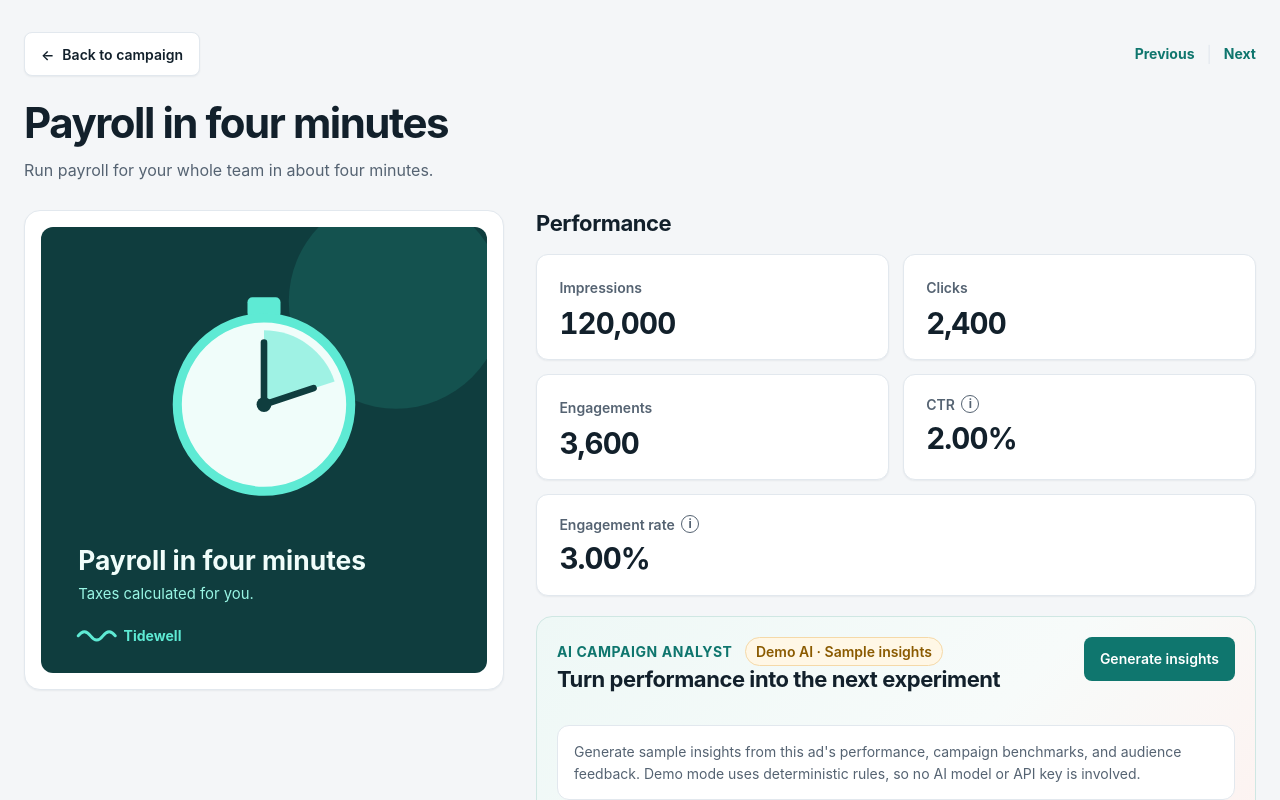
Test: AdDetailPage › generates demo insights on request and labels them as samples
Expected: the text "Demo AI · Sample insights" is shown, [744,637,943,666]
Click the button "Generate insights": (1159, 659) [1084,637,1235,681]
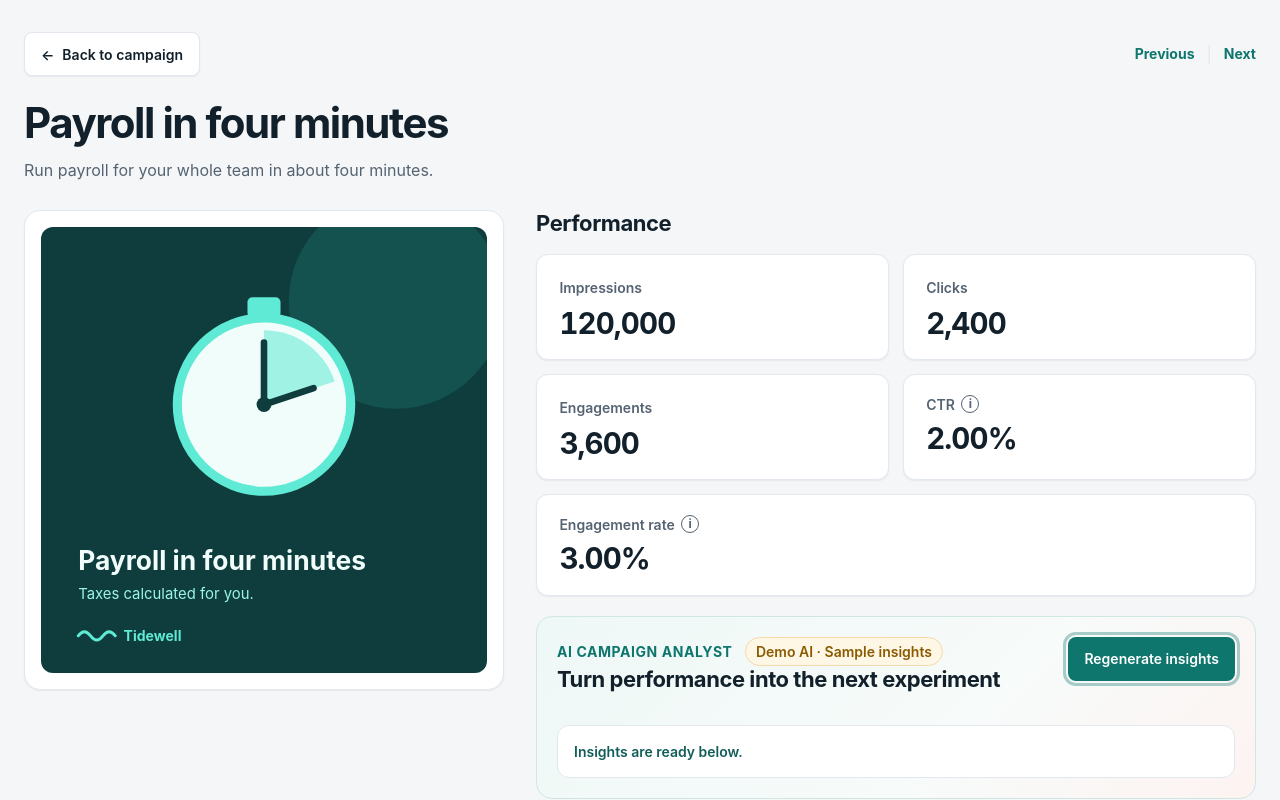
Expected: the button "Regenerate insights" is shown, [1068,637,1235,681]
